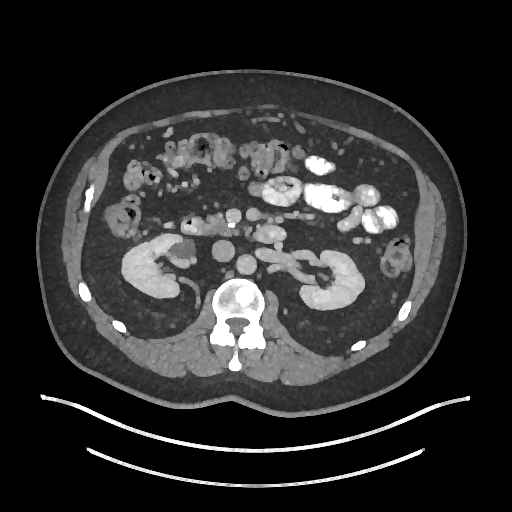Lesion: (162, 235, 201, 260)
